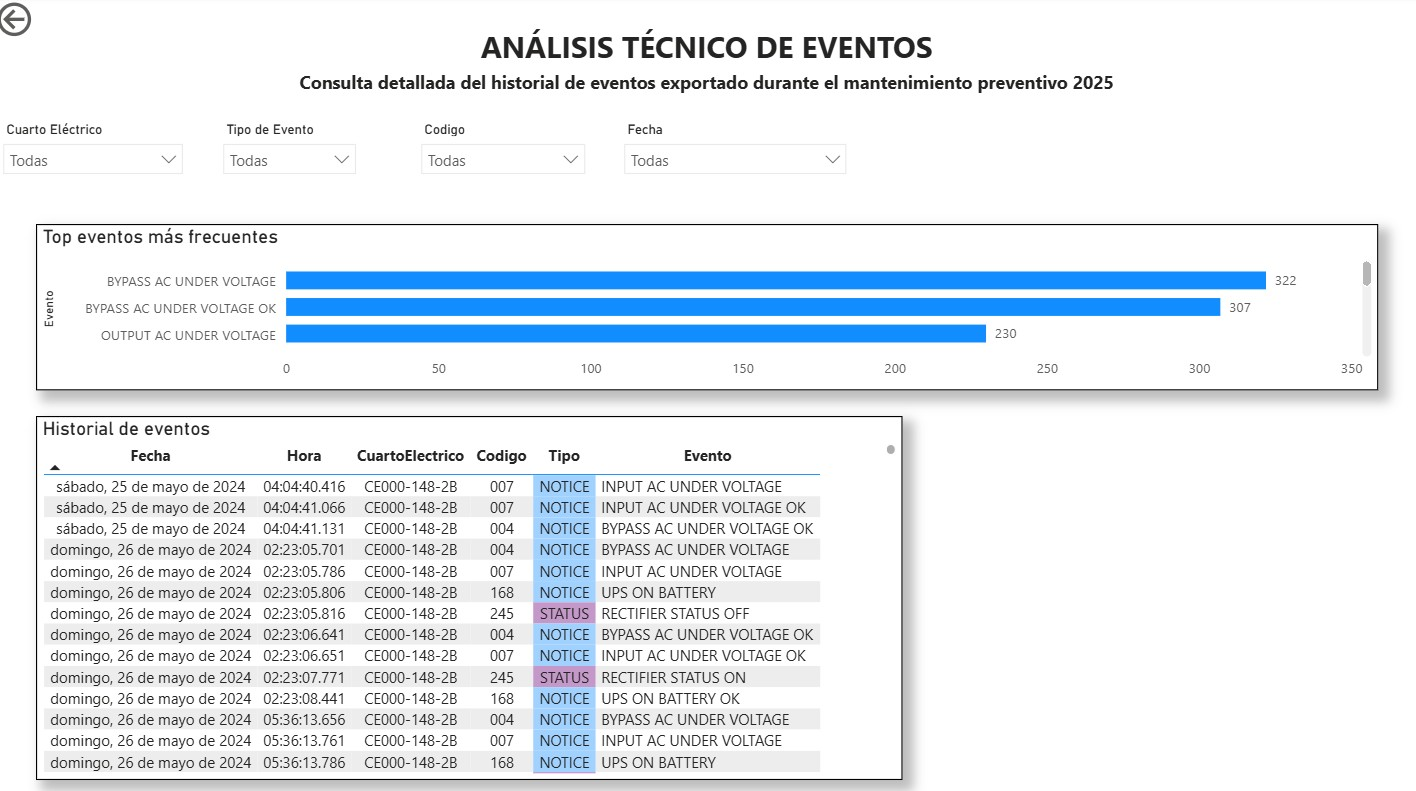

Layout of this report page (visuals, bound fields, positions):
{"tool":"powerbi","page":{"name":"Análisis Técnico","canvas":[1280,720],"ordinal":1},"visuals":[{"type":"slicer","fields":{"Values":["FactEventos.CuartoElectrico"]},"box":[0,106.6,180.9,53.7],"z":0},{"type":"textbox","box":[0,20.6,1279.7,50.1],"z":7000},{"type":"textbox","box":[0,60.3,1280,46.7],"z":8000},{"type":"slicer","fields":{"Values":["DimCalendario.Fecha"]},"box":[556.1,106.6,219.4,52.8],"z":9000},{"type":"slicer","fields":{"Values":["FactEventos.Tipo"]},"box":[197,106.6,138.8,53.7],"z":10000},{"type":"slicer","fields":{"Values":["FactEventos.Codigo"]},"box":[374.3,106.6,166.6,53.7],"z":12000},{"type":"barChart","title":"Top eventos más frecuentes","fields":{"Category":["FactEventos.Evento"],"Y":["FactEventos.Total Eventos"]},"box":[39.4,203.3,1201.8,148.7],"z":12001},{"type":"tableEx","title":"Historial de eventos","fields":{"Values":["FactEventos.Fecha","FactEventos.Hora","FactEventos.CuartoElectrico","FactEventos.Codigo","FactEventos.Tipo","FactEventos.Evento"]},"box":[39.4,375.2,775.5,326],"z":12002},{"type":"actionButton","box":[0,0,100,40],"z":12003}]}

Visuals, with their boxes in screenshot pixels (x1, y1, x2, y2), scaled from the page's 1280x720 canvas onto the 1416x791 screenshot:
slicer - FactEventos.CuartoElectrico: Rect(0, 117, 200, 176)
textbox: Rect(0, 23, 1415, 78)
textbox: Rect(0, 66, 1415, 118)
slicer - DimCalendario.Fecha: Rect(615, 117, 858, 175)
slicer - FactEventos.Tipo: Rect(218, 117, 371, 176)
slicer - FactEventos.Codigo: Rect(414, 117, 598, 176)
"Top eventos más frecuentes" barChart: Rect(44, 223, 1373, 387)
"Historial de eventos" tableEx: Rect(44, 412, 901, 770)
actionButton: Rect(0, 0, 111, 44)
